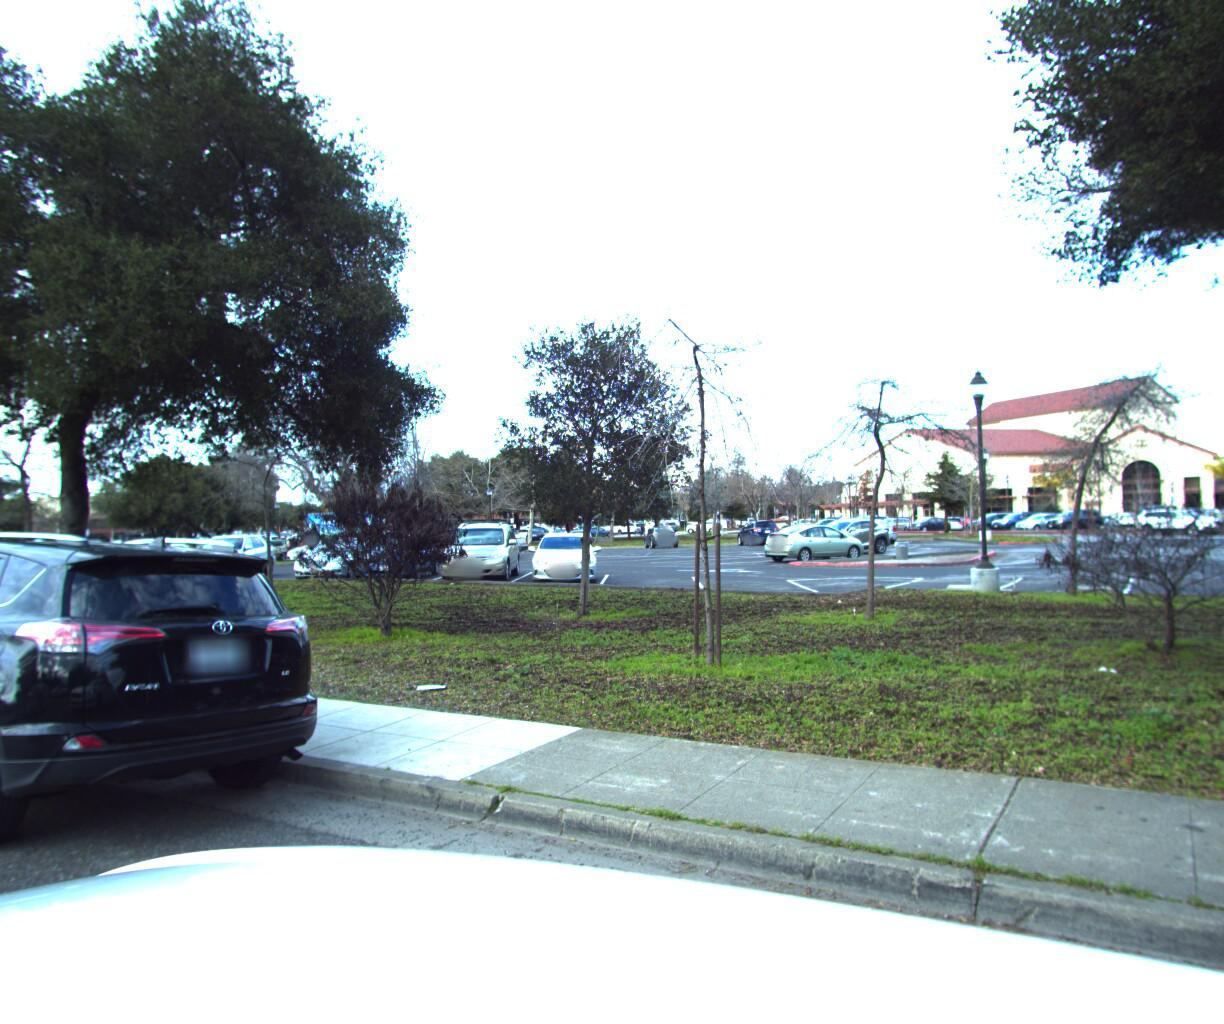car: (0, 514, 370, 916)
